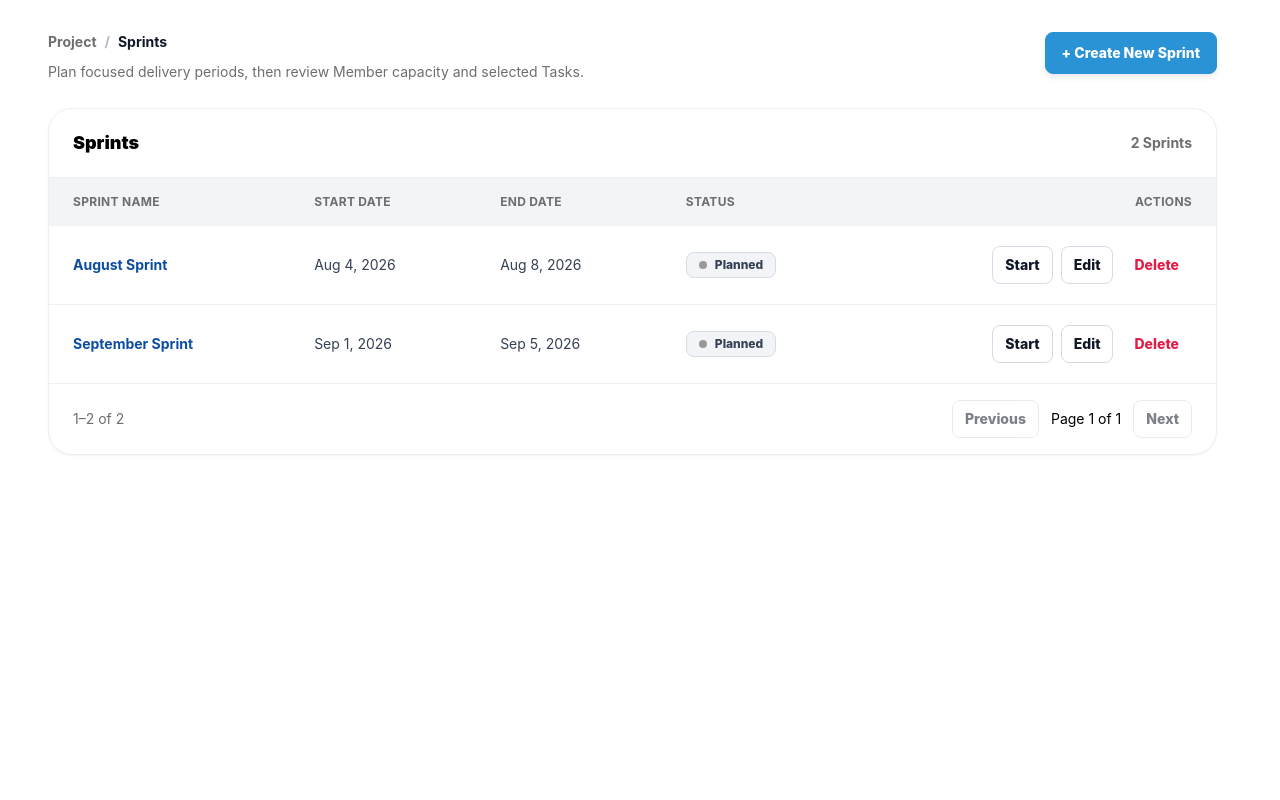
Test: SprintsPage › does not restore an older Sprint detail response after a newer selection_AC74
Click the button "August Sprint".
click(120, 265)  # box [73, 255, 167, 275]
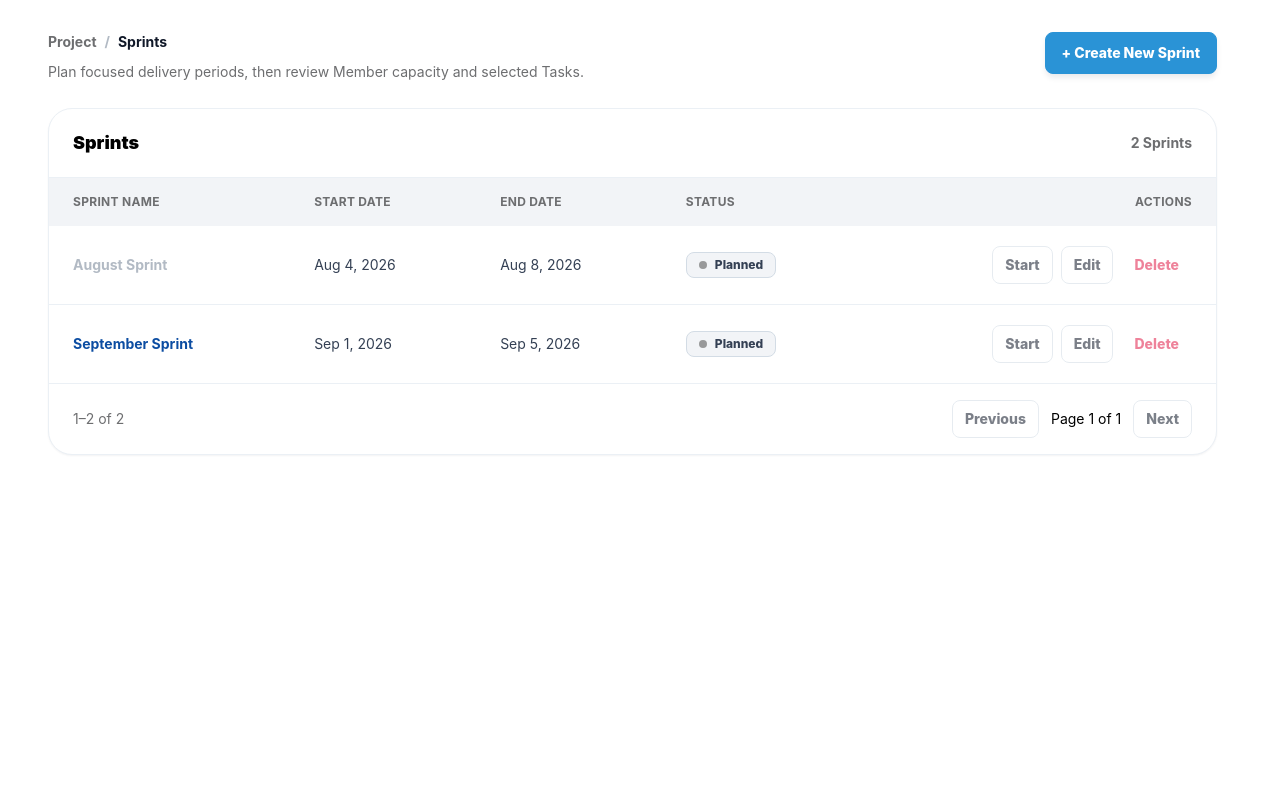
Click the button "September Sprint".
click(133, 344)  # box [73, 334, 193, 354]
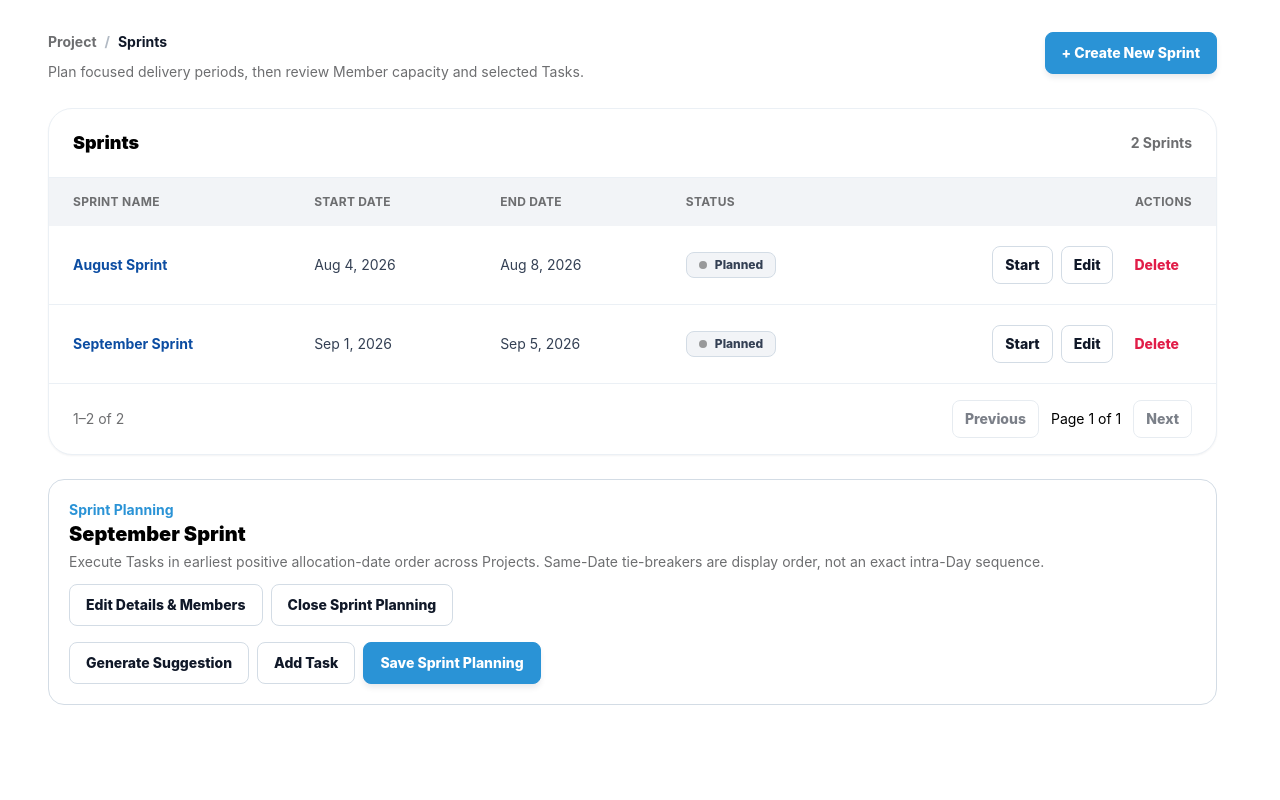
Expected: the heading "September Sprint" is shown, [69, 522, 246, 546]
